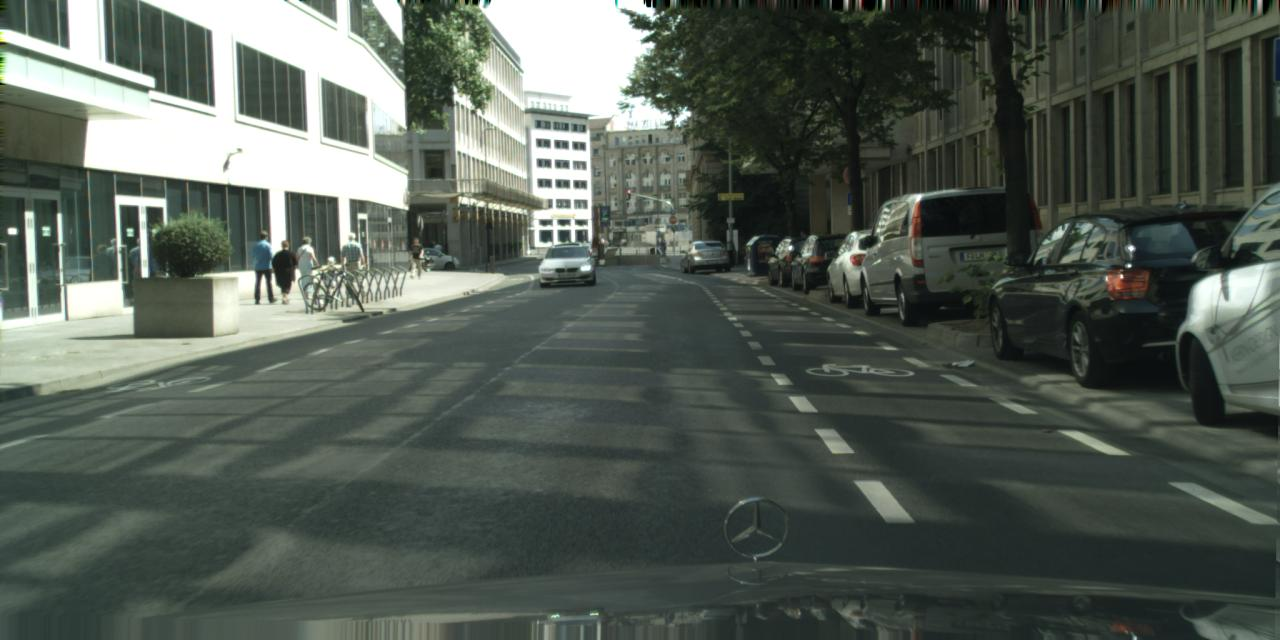ped: (248, 229, 278, 303), (340, 232, 366, 296), (271, 239, 297, 303), (294, 236, 320, 299), (407, 236, 424, 278), (796, 230, 811, 270), (324, 256, 338, 291), (658, 234, 666, 256), (428, 241, 444, 252), (604, 238, 608, 247)
